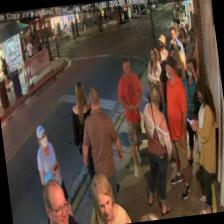person: (73, 84, 129, 224), (154, 54, 198, 200), (134, 81, 180, 216), (182, 76, 224, 214), (31, 120, 82, 224), (113, 57, 152, 176), (66, 79, 102, 192), (174, 55, 210, 167), (84, 167, 131, 224), (144, 46, 170, 140), (36, 175, 82, 224)
